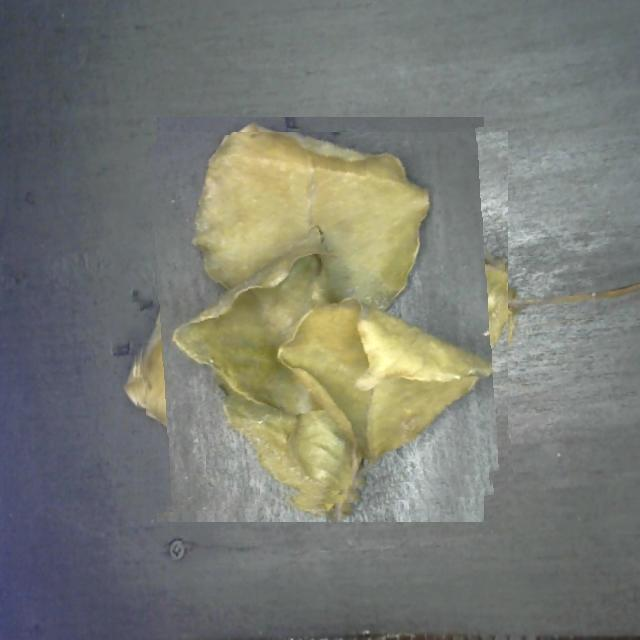biodegradable: (133, 132, 508, 508)
